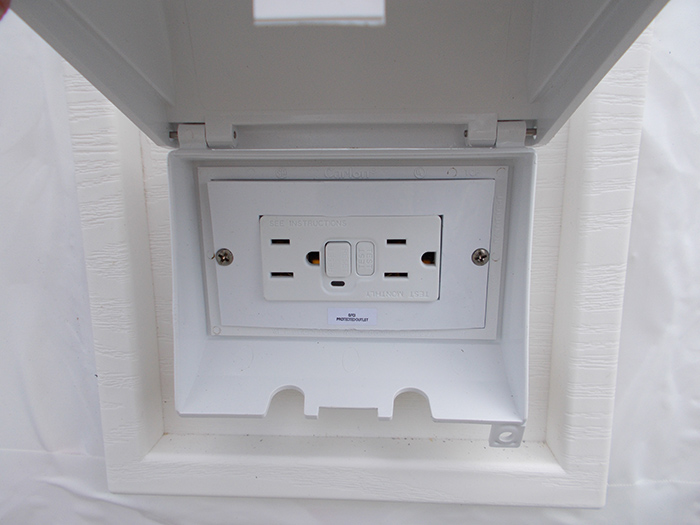outlet: (380, 232, 439, 283), (267, 232, 322, 283)
